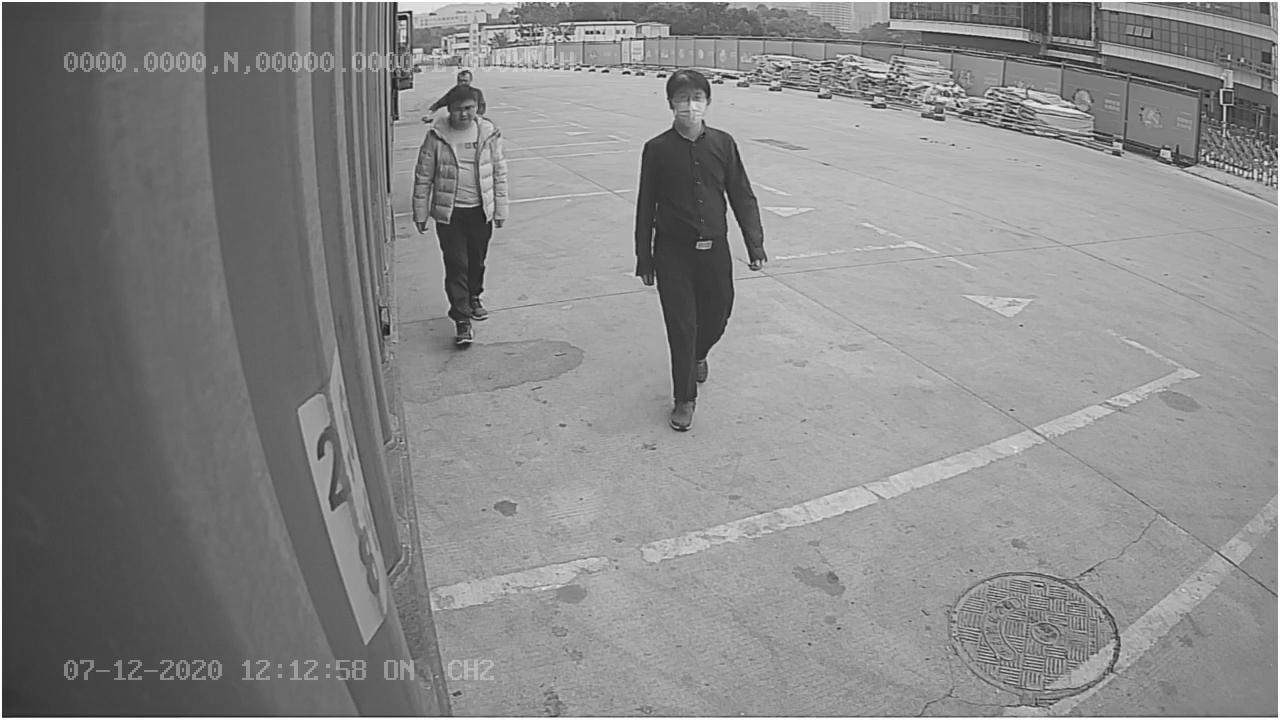person: (636, 58, 767, 435)
